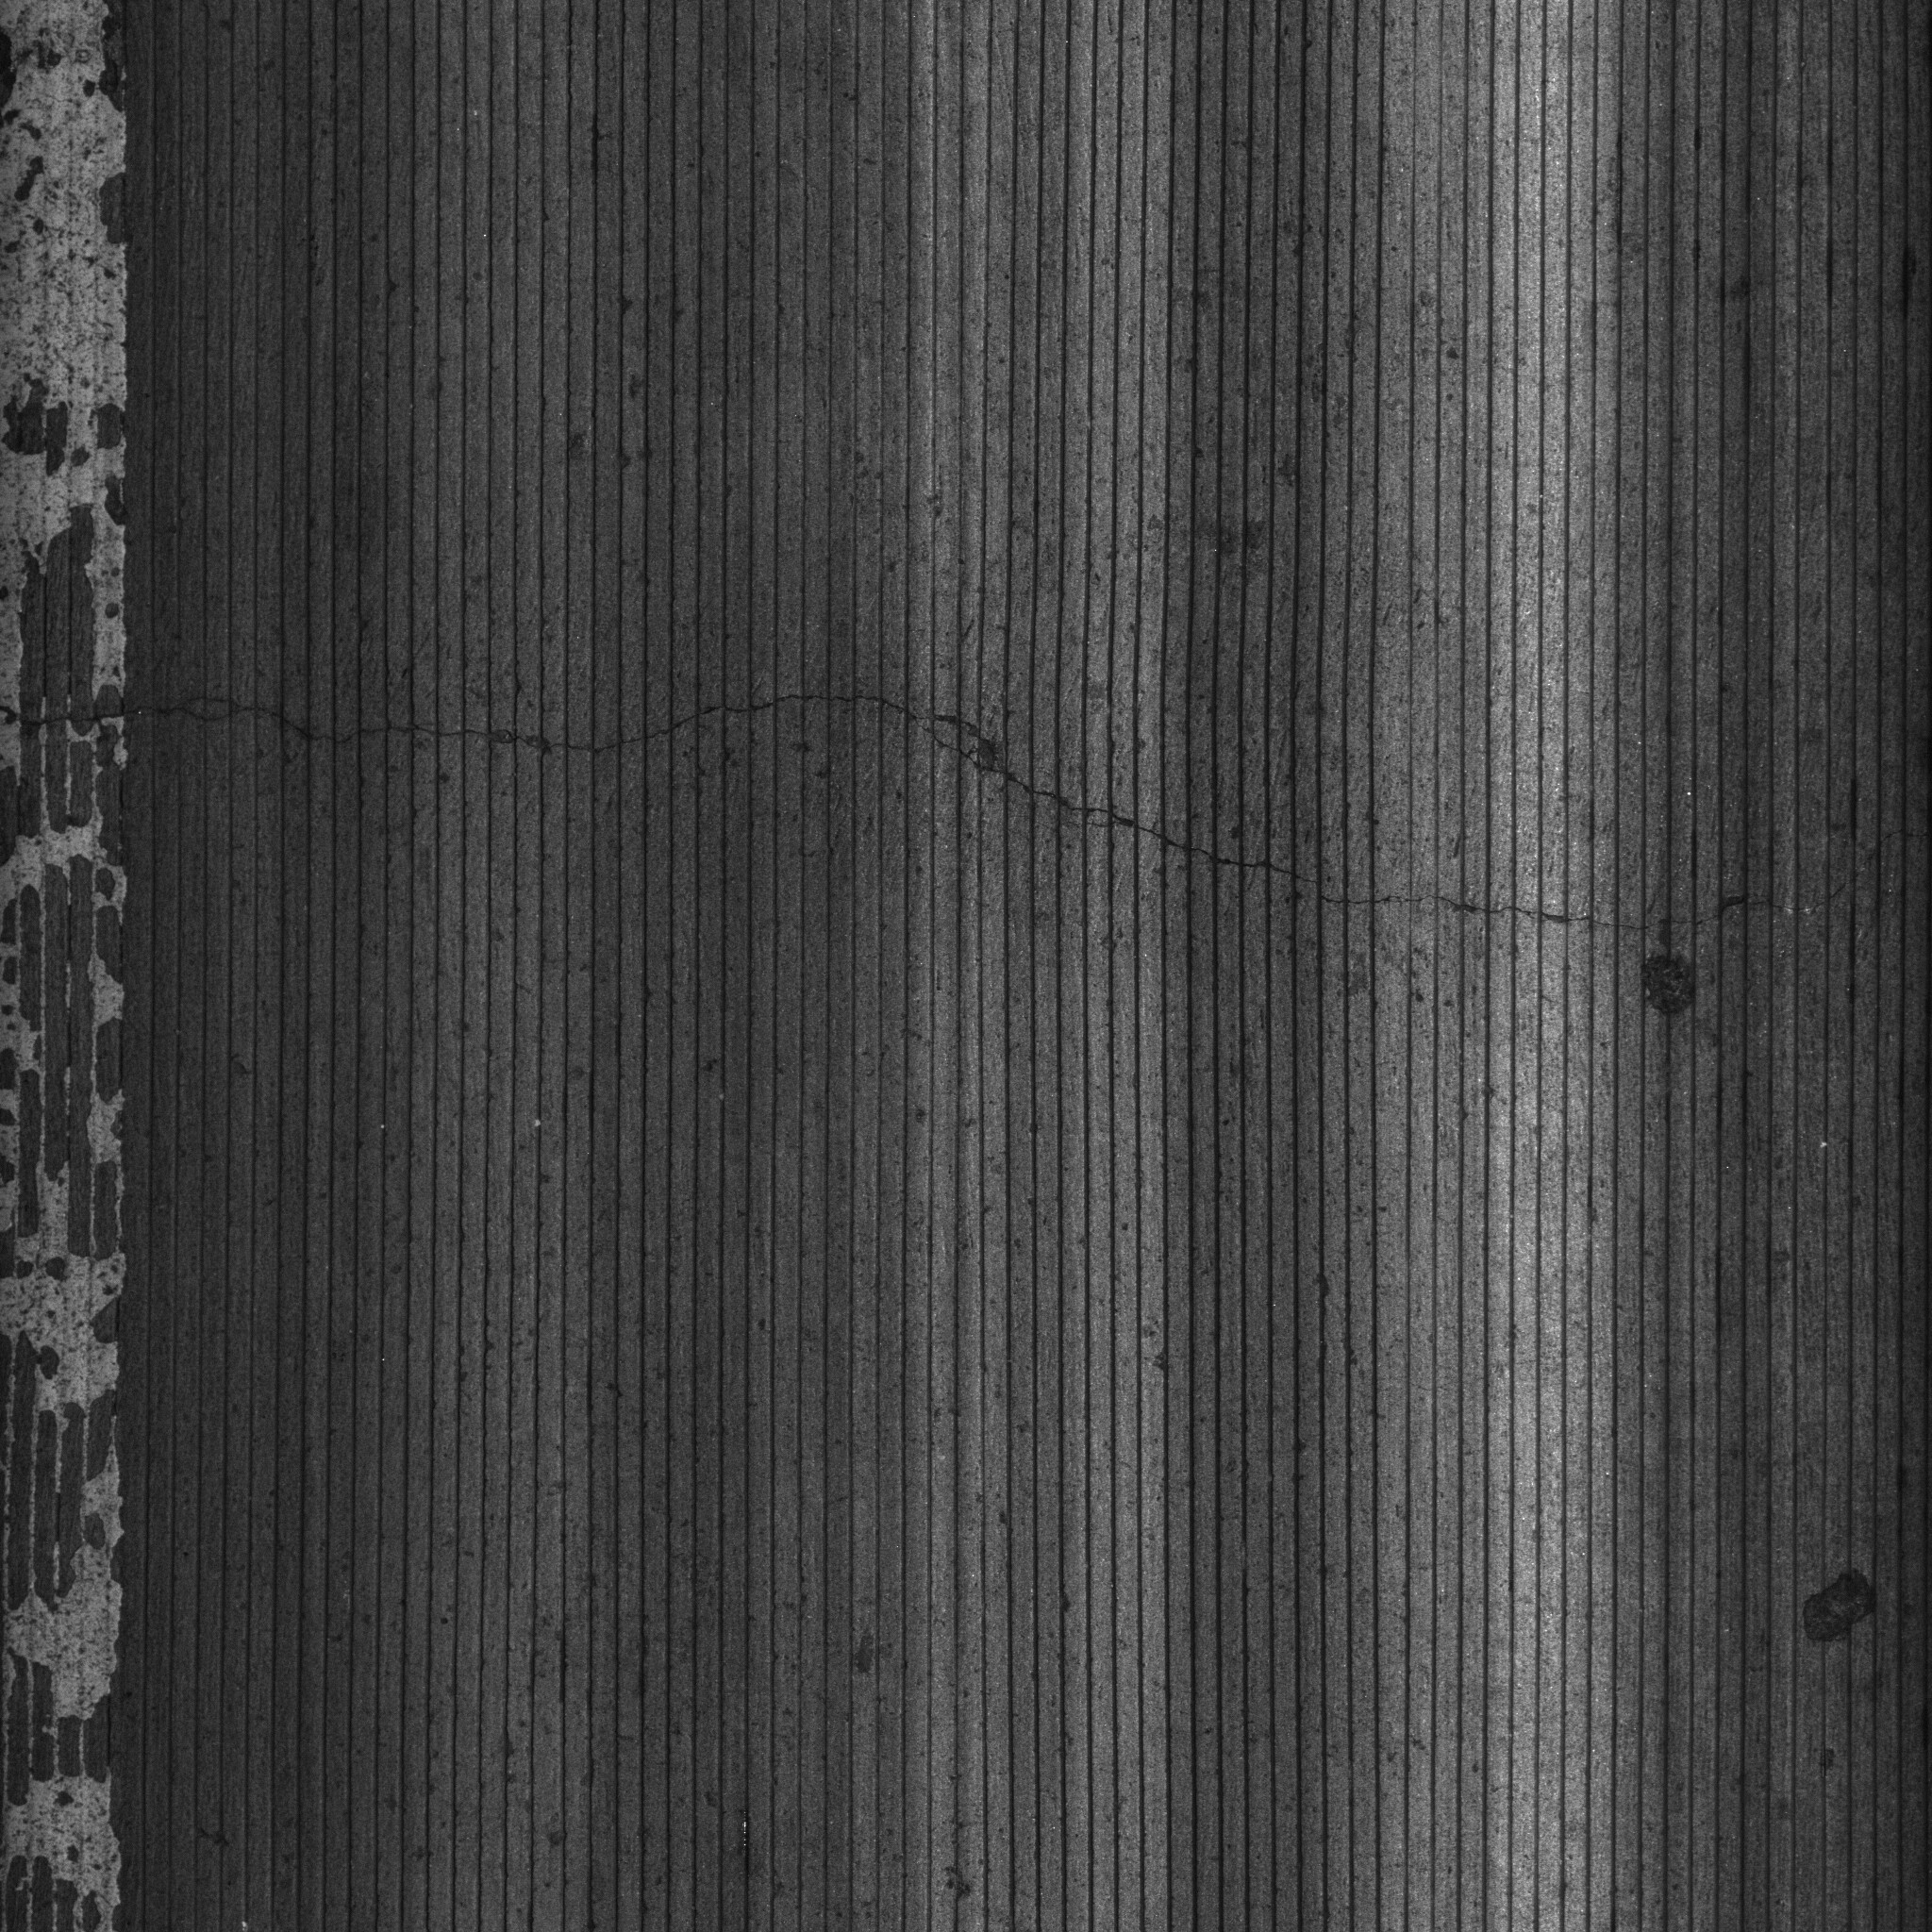transverse: (7, 623, 1821, 948)
